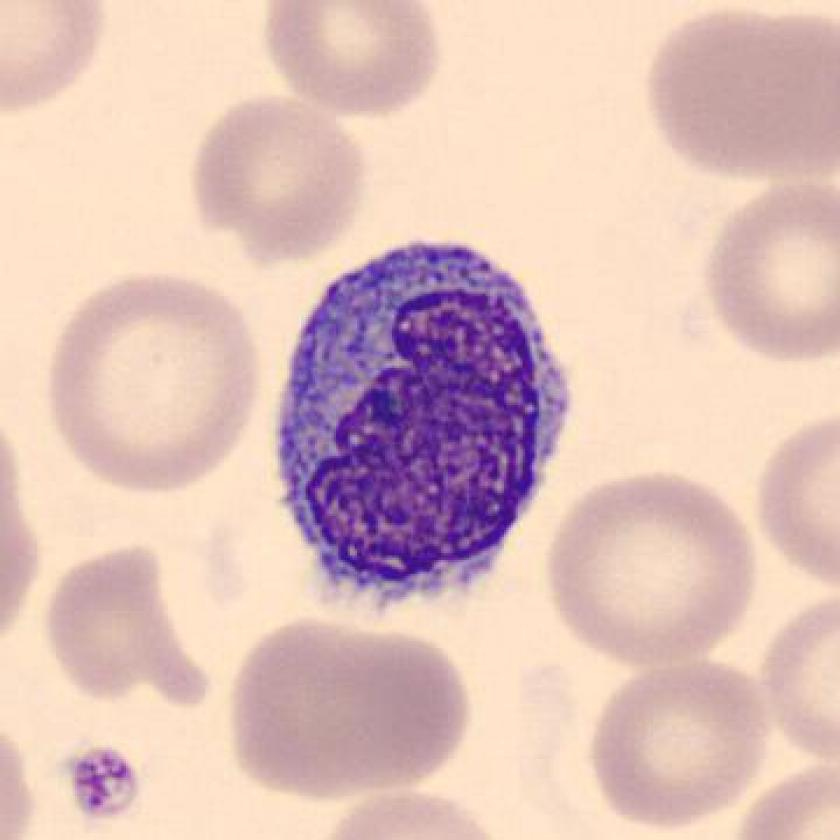monocyte: (251, 221, 594, 630)
